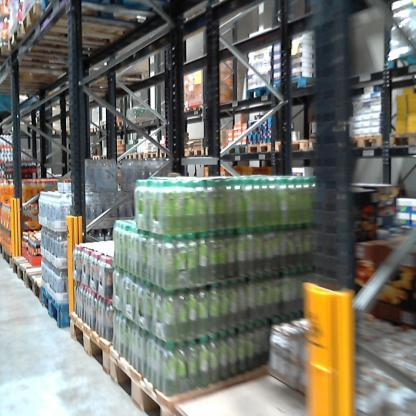pallets: (68, 313, 189, 415), (4, 5, 139, 64), (0, 238, 45, 306), (36, 283, 77, 330), (123, 144, 214, 161), (228, 138, 315, 155), (348, 130, 415, 152)
